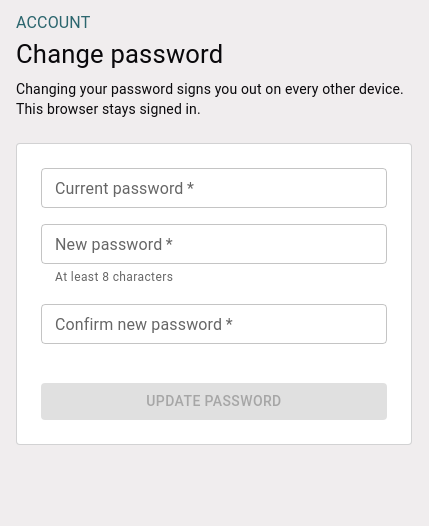
ChangePasswordPage › shows the API error for a wrong current password
The image size is (429, 526).
Type "wrong-password" into the password field labelled "Current password *" at (214, 188), box [41,168,387,208]
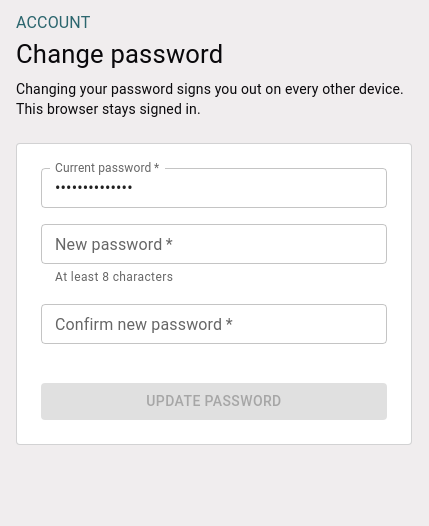
Type "brand-new-pass" into the password field labelled "New password *" at (214, 244), box [41,224,387,264]
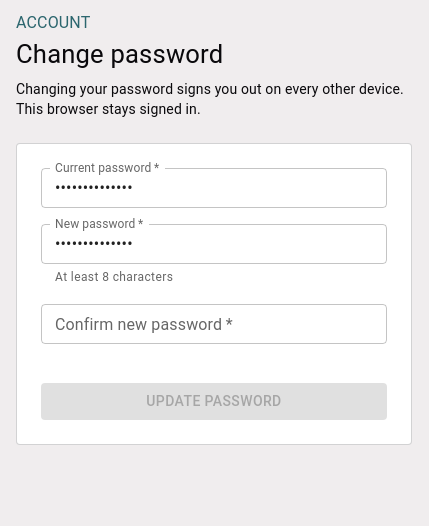
Type "brand-new-pass" into the password field labelled "Confirm new password *" at (214, 324), box [41,304,387,344]
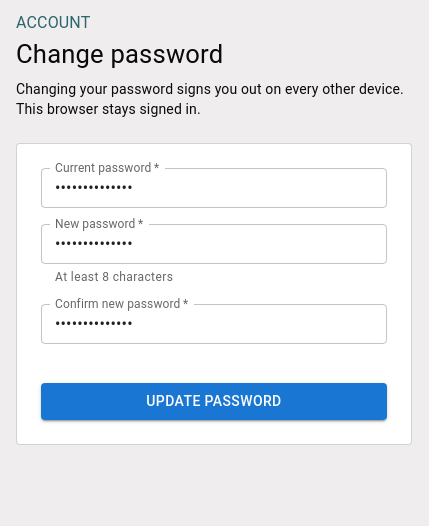
Click the button "Update password" at (214, 402), box [41,383,387,420]
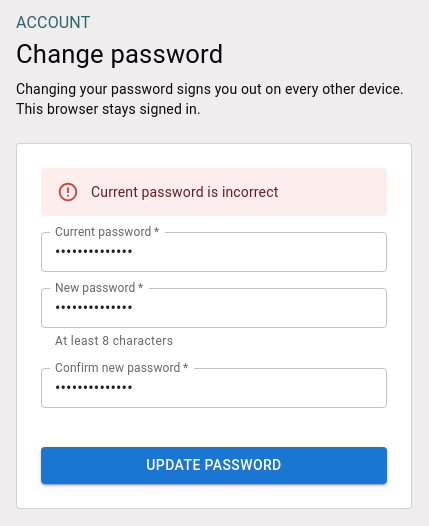
expect the text "Current password is incorrect" is shown: met, box [91,184,278,200]
